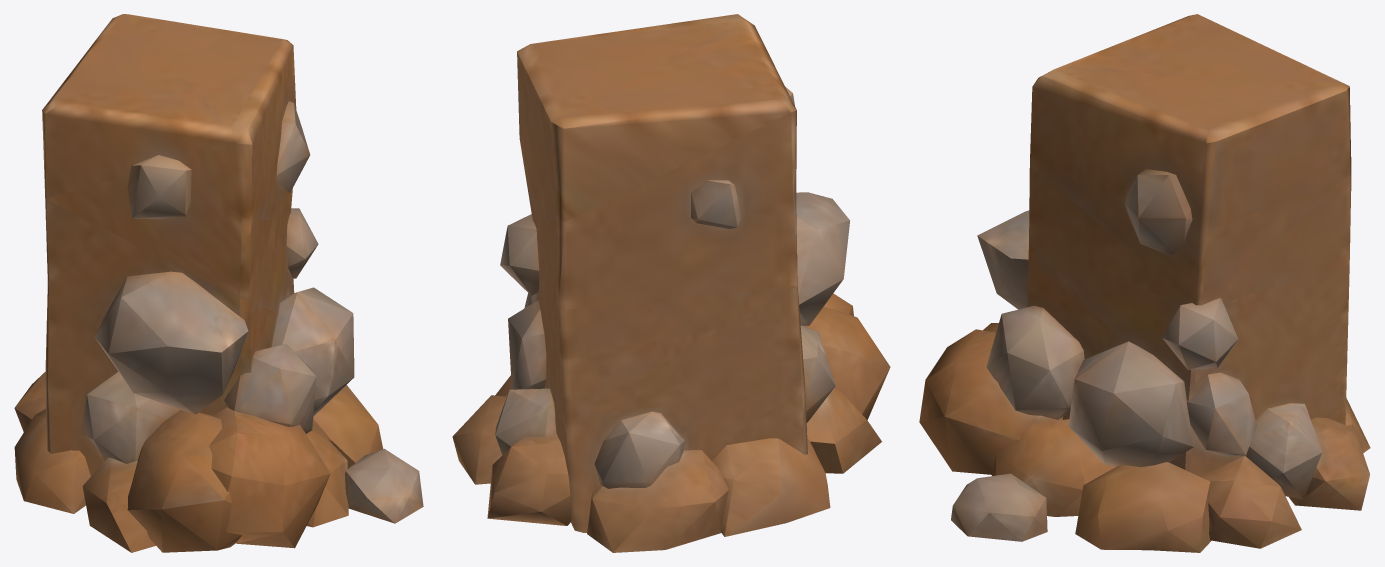
File: bloque_tierra_2.glb
3 renders of one model, left to right at view 1: azimuth 30°, elevation 25°; view 2: azimuth 150°, elevation 25°; view 3: azimuth 270°, elevation 25°, orthographic. The views are drawn at different scales.
Visible parts, largest first — view 1: bloque_tierra_2_malla; view 2: bloque_tierra_2_malla; view 3: bloque_tierra_2_malla.
Part boxes in pixels (left/top/right/bottom): bloque_tierra_2_malla: left=14, top=14, right=423, bottom=552; bloque_tierra_2_malla: left=452, top=14, right=890, bottom=552; bloque_tierra_2_malla: left=919, top=14, right=1370, bottom=552.
Bounding box in the file's own units: 0.1963 × 0.2296 × 0.2296.
1 material, 1 textured.
